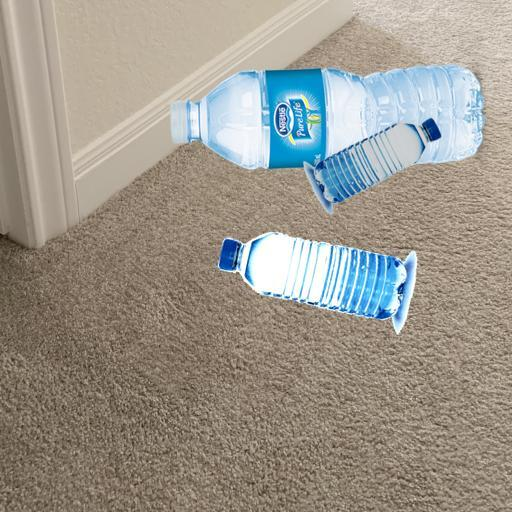bottle: (210, 230, 423, 338), (147, 136, 495, 136)
